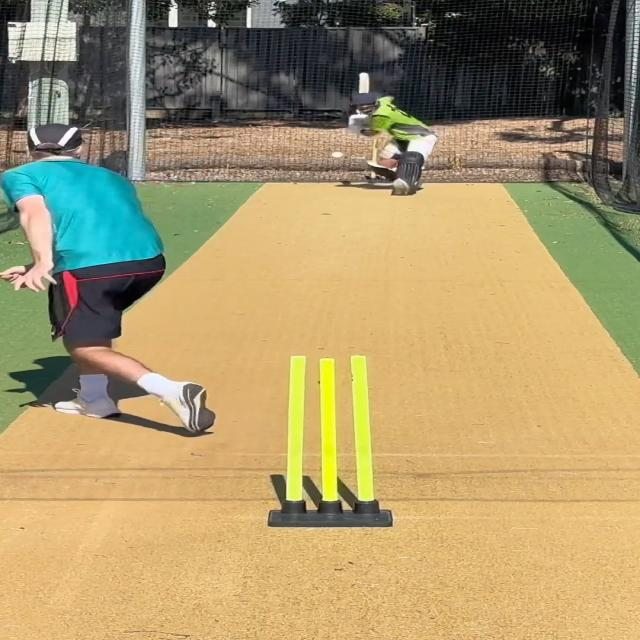ball: (331, 149, 347, 159)
stump: (269, 355, 393, 527)
